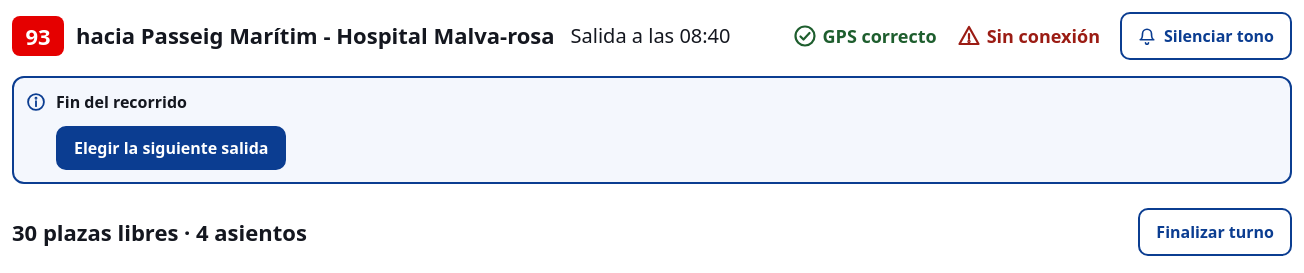
Scenario: ShiftPage › [driver_ui.AC-08] "Elegir la siguiente salida" returns to the departures of the same line and direction
Click the button "Elegir la siguiente salida".
click(171, 148)  # box [56,126,286,170]
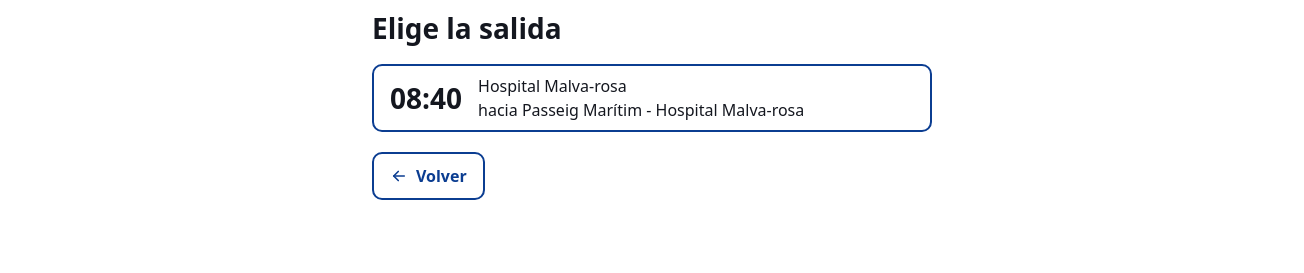
Result: the button "08:40" is shown at [372,64,932,132]
